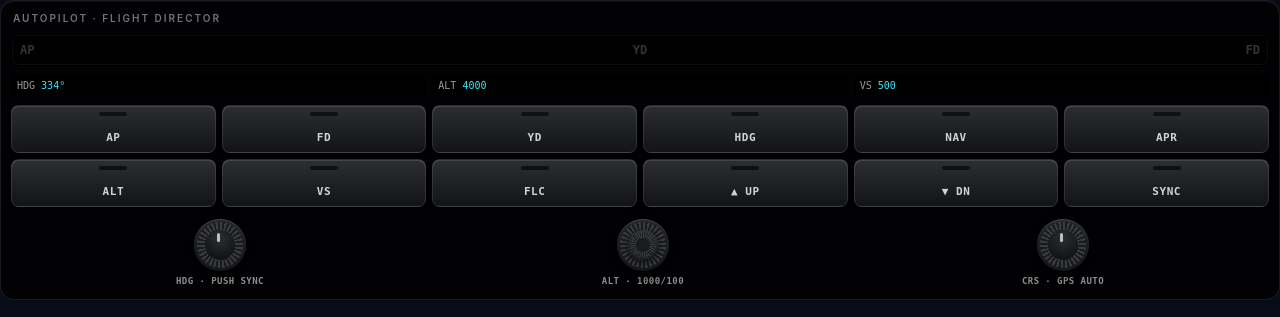
Scenario: avionics components render from the engine snapshot › autopilot buttons change engine state
Click the button "AP" at [113, 129], box [11,105,216,153]
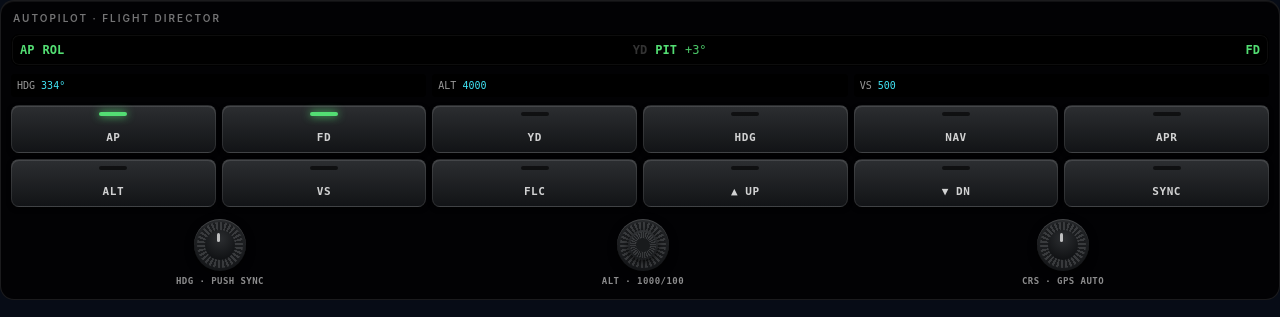
Click the button "HDG" at [745, 129], box [643,105,848,153]
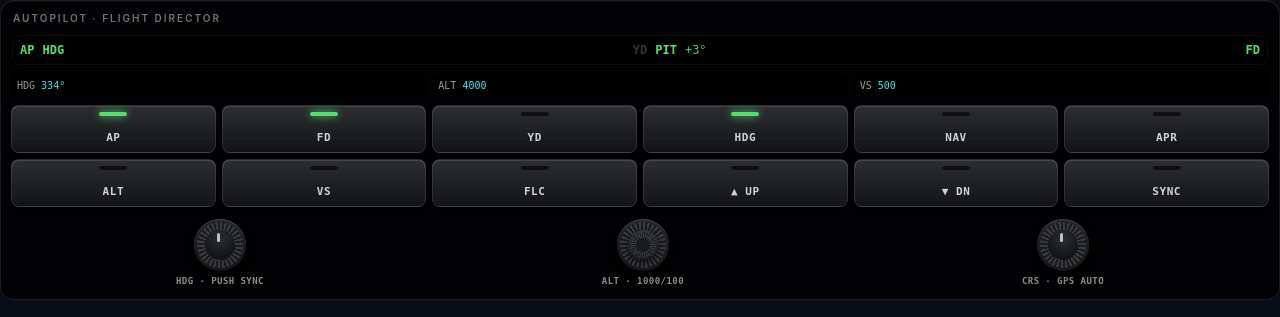
expect the text "HDG" is shown: met, box [42,41,64,59]
